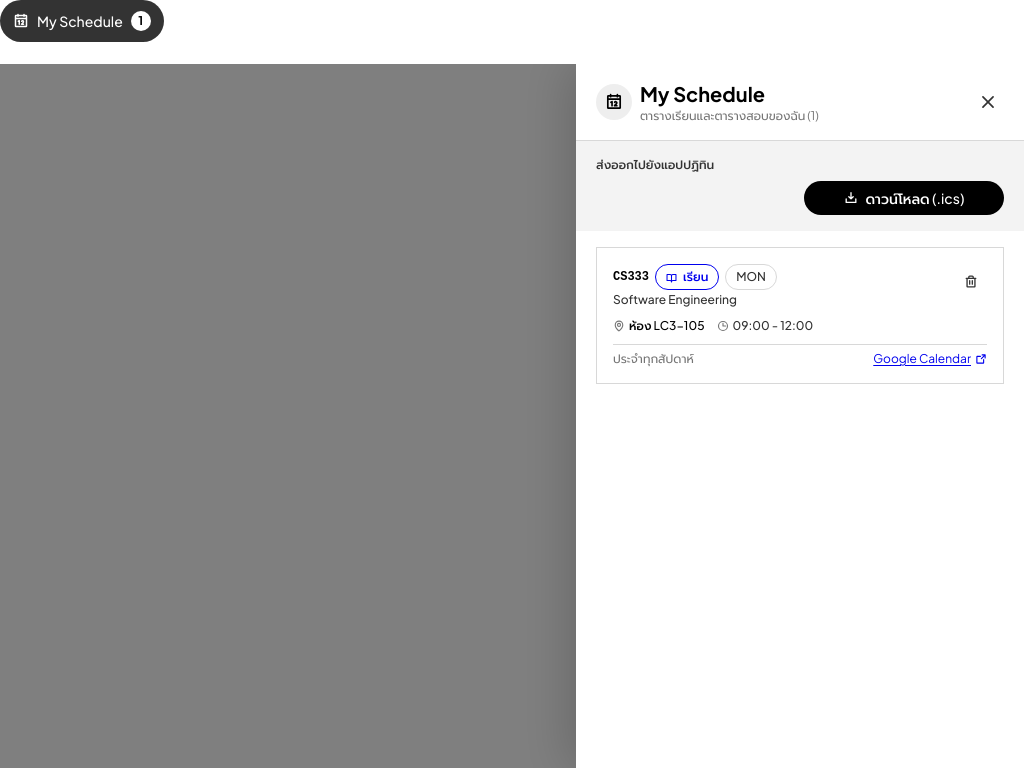
Test case: MyScheduleDrawer Component › displays visible error message when removePin rejects and re-enables button
This screenshot has width=1024, height=768.
Click the button with test id "remove-pin-LC3-105-MON#09:00#CS333" at (971, 282), box 955,264 -> 987,300
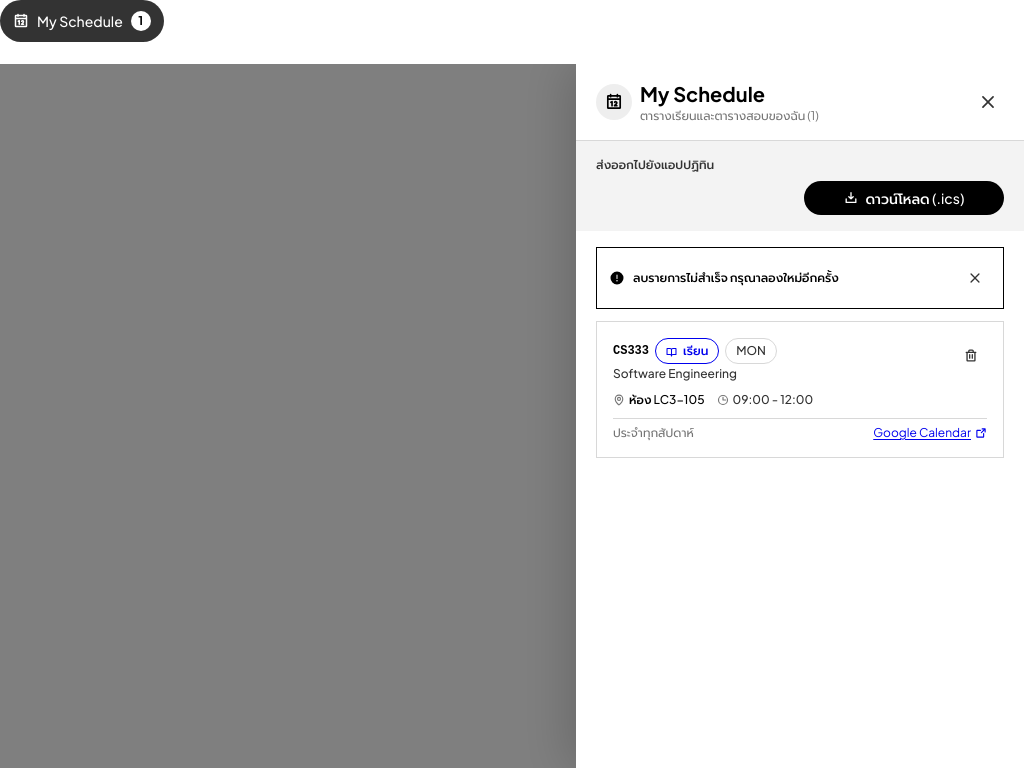
Expected: the button with test id "remove-pin-LC3-105-MON#09:00#CS333" is enabled, 955,338 -> 987,374
Now the message reads "ลบรายการไม่สำเร็จ กรุณาลองใหม่อีกครั้ง", box 633,270 -> 839,285
